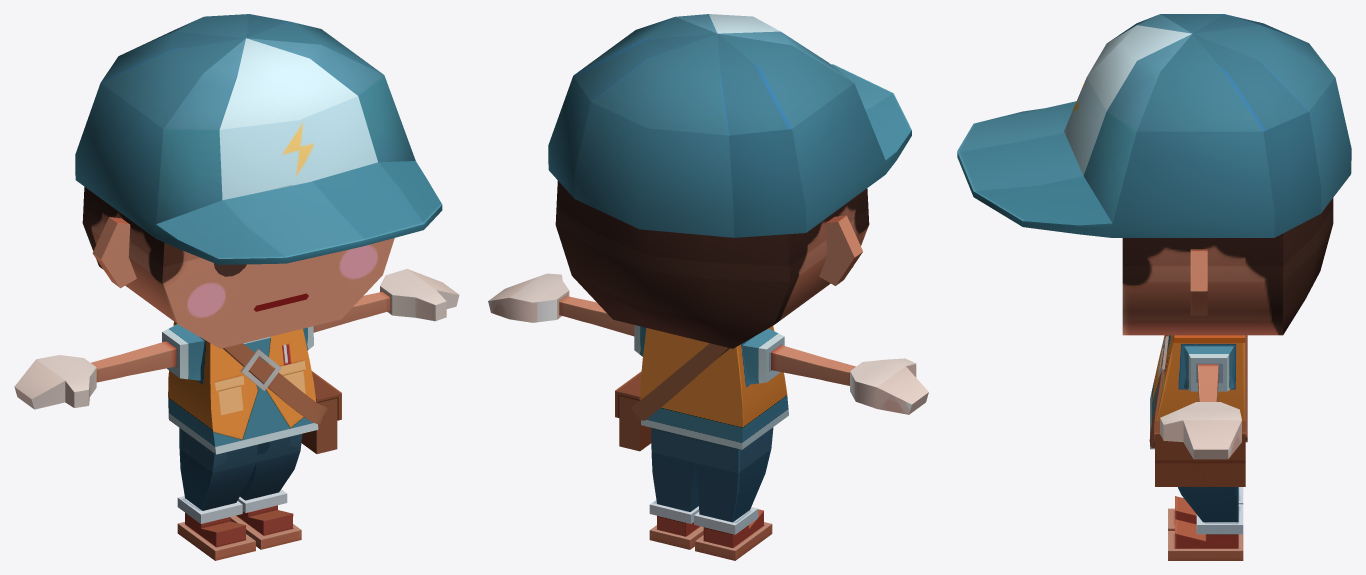
The model's file is 宝宝学汉字-角色-NPC快递小哥.FBX.
3 renders of one model, left to right at view 1: azimuth 30°, elevation 25°; view 2: azimuth 150°, elevation 25°; view 3: azimuth 270°, elevation 25°, orthographic.
Visible parts, largest first — view 1: 宝宝学汉字-角色-NPC快递小哥; view 2: 宝宝学汉字-角色-NPC快递小哥; view 3: 宝宝学汉字-角色-NPC快递小哥.
Part boxes in pixels (bbox=[...]): 宝宝学汉字-角色-NPC快递小哥: bbox=[14, 14, 459, 560]; 宝宝学汉字-角色-NPC快递小哥: bbox=[488, 14, 928, 560]; 宝宝学汉字-角色-NPC快递小哥: bbox=[957, 14, 1351, 560].
Bounding box in the file's own units: 89.03 × 100 × 70.69.
1 material, 1 textured.
